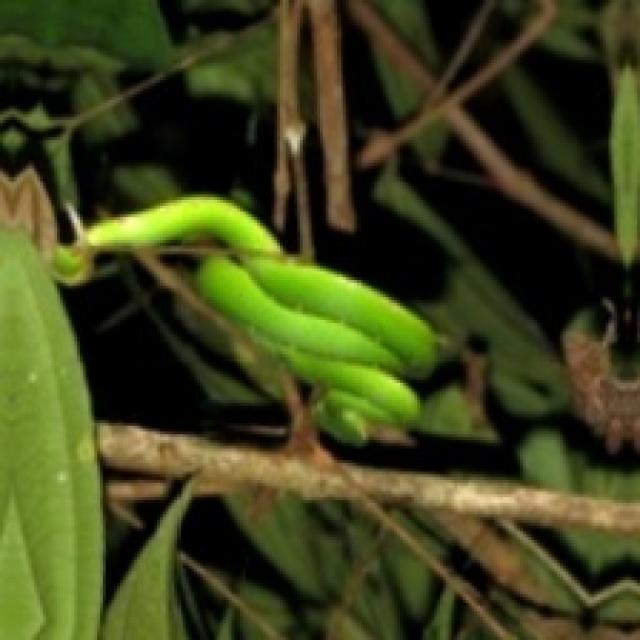north ph temple pitviper: (83, 194, 434, 443)
